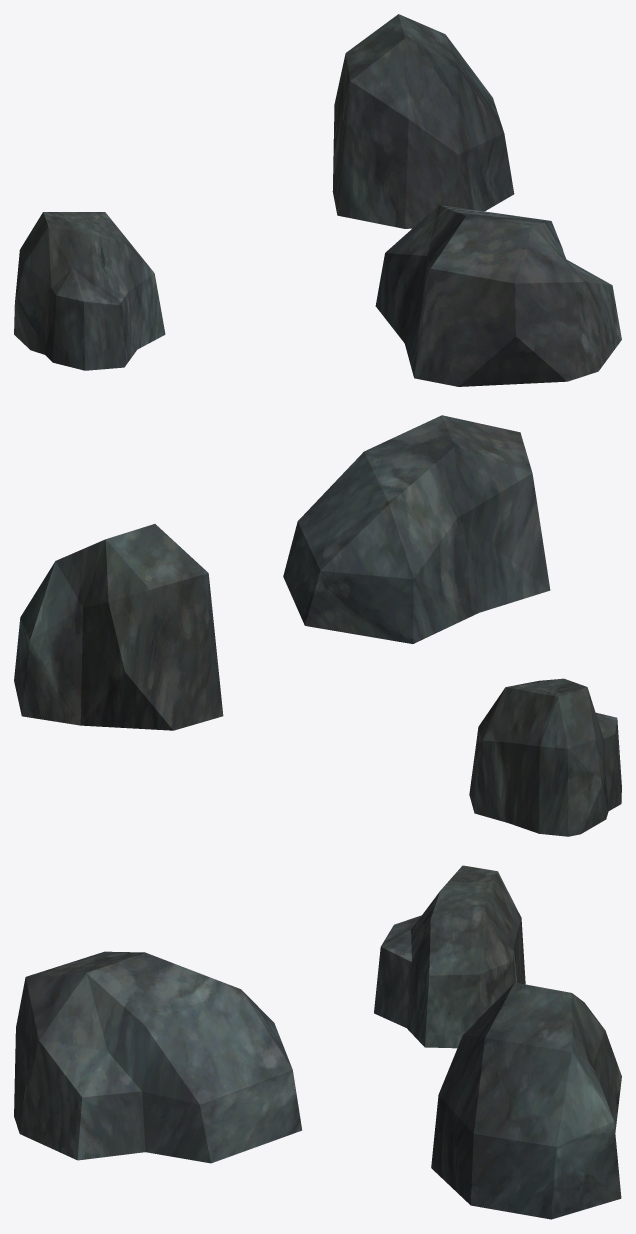
The model's file is object_rubble04.fbx.
3 renders of one model, top to bottom at view 1: azimuth 30°, elevation 25°; view 2: azimuth 150°, elevation 25°; view 3: azimuth 270°, elevation 25°, orthographic. The views are drawn at different scales.
Parts seen in each view (by area): view 1: obj0.081; view 2: obj0.081; view 3: obj0.081.
Part boxes in pixels (x1=…): obj0.081: x1=14, y1=14, x2=621, y2=386; obj0.081: x1=14, y1=415, x2=621, y2=836; obj0.081: x1=14, y1=865, x2=621, y2=1219.
Size of the model in its own units: 11.75 by 4.26 by 11.
